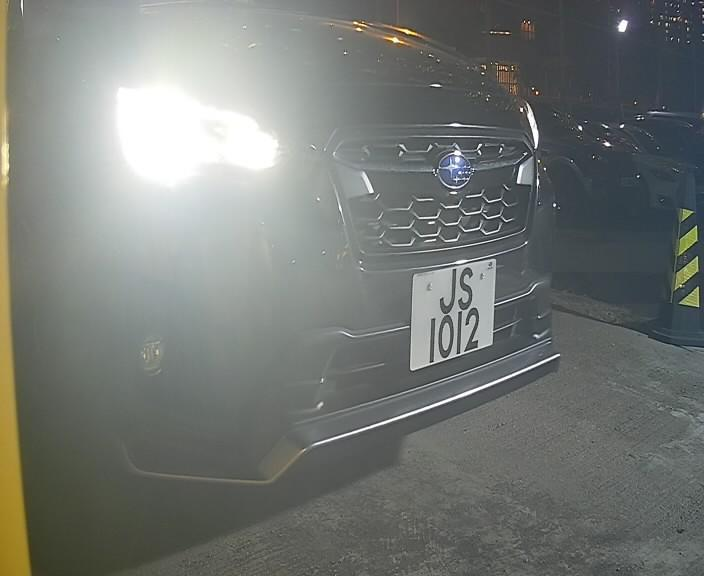privatecar: (1, 10, 577, 529)
